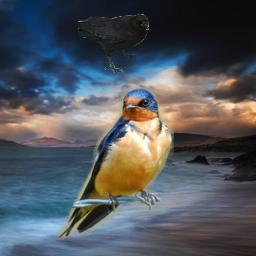Crow: (78, 14, 149, 74)
Swallow: (57, 87, 174, 240)
